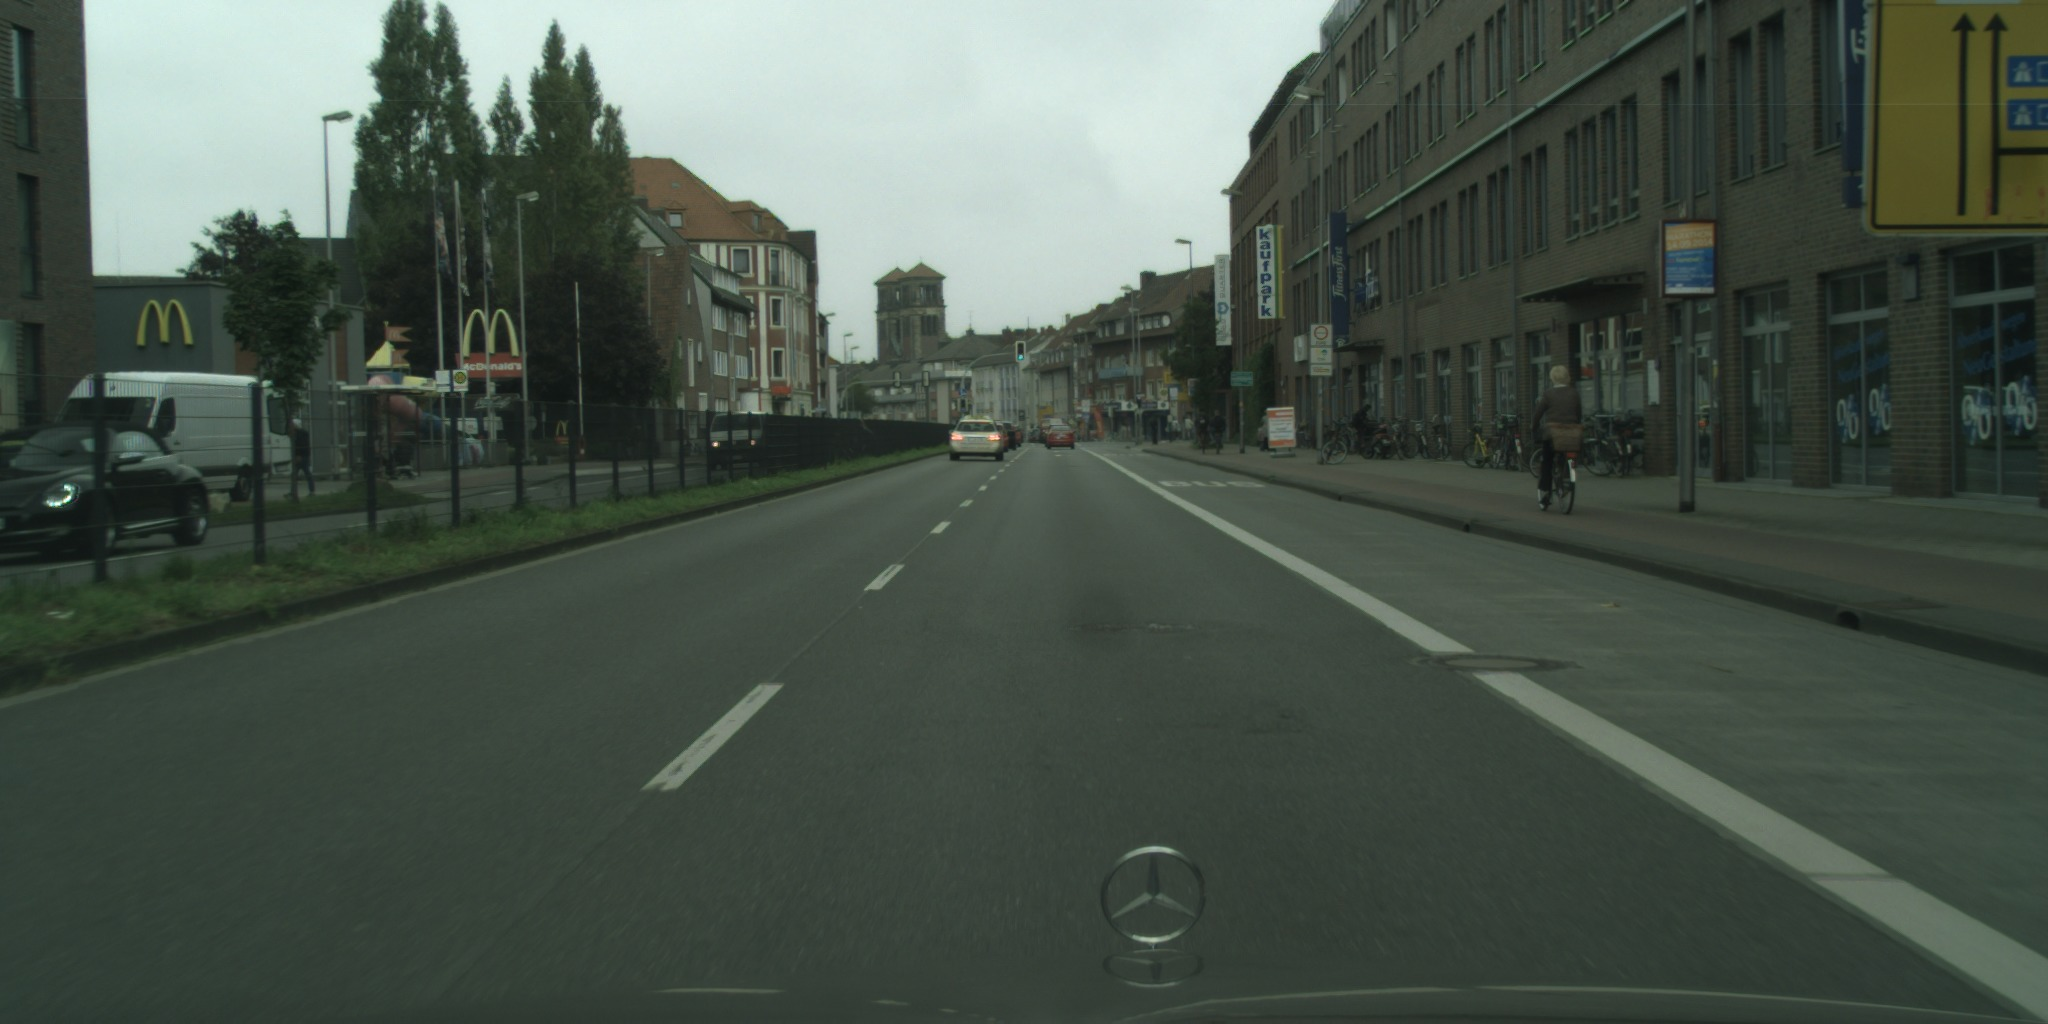bicycle: (1534, 439, 1576, 515), (1321, 418, 1347, 466)
car: (64, 371, 280, 399), (948, 419, 1004, 462), (991, 422, 1017, 450), (1046, 426, 1076, 449), (995, 423, 1009, 452), (1012, 425, 1023, 447)
person: (1258, 409, 1274, 451), (1208, 410, 1224, 449), (1196, 406, 1211, 448), (1349, 404, 1371, 429)
rider: (1530, 365, 1584, 502)
